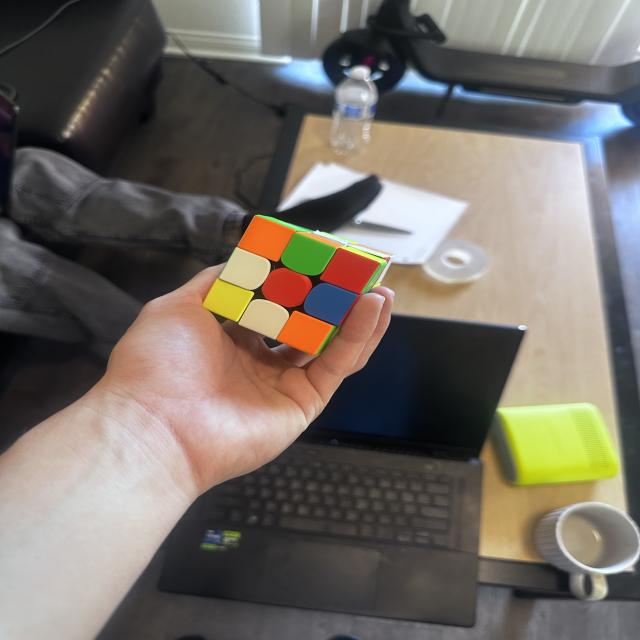sticker: (321, 245, 384, 293), (274, 309, 336, 356), (238, 213, 296, 262), (303, 281, 360, 327), (281, 231, 338, 276), (217, 246, 272, 292), (201, 277, 255, 321), (259, 266, 313, 310), (237, 298, 290, 340)
